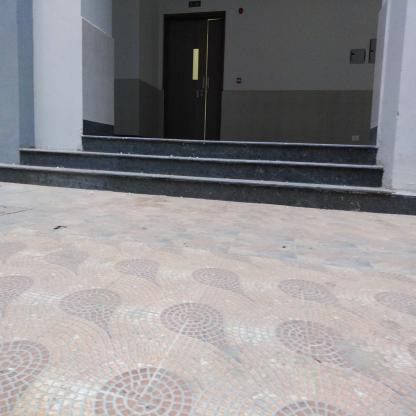stairs: (90, 135, 375, 200)
